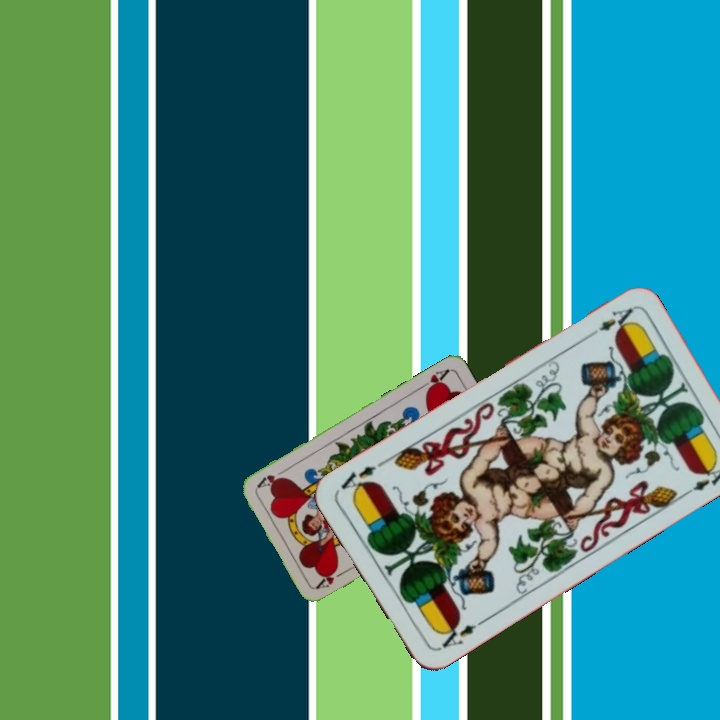EA: (434, 615, 488, 653), (582, 304, 636, 341)
HA: (415, 365, 452, 395), (313, 565, 351, 591)
